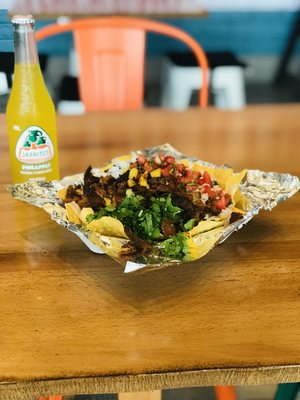curry: (1, 125, 299, 395)
pasta: (34, 15, 216, 115)
sandwich: (56, 144, 296, 264)
